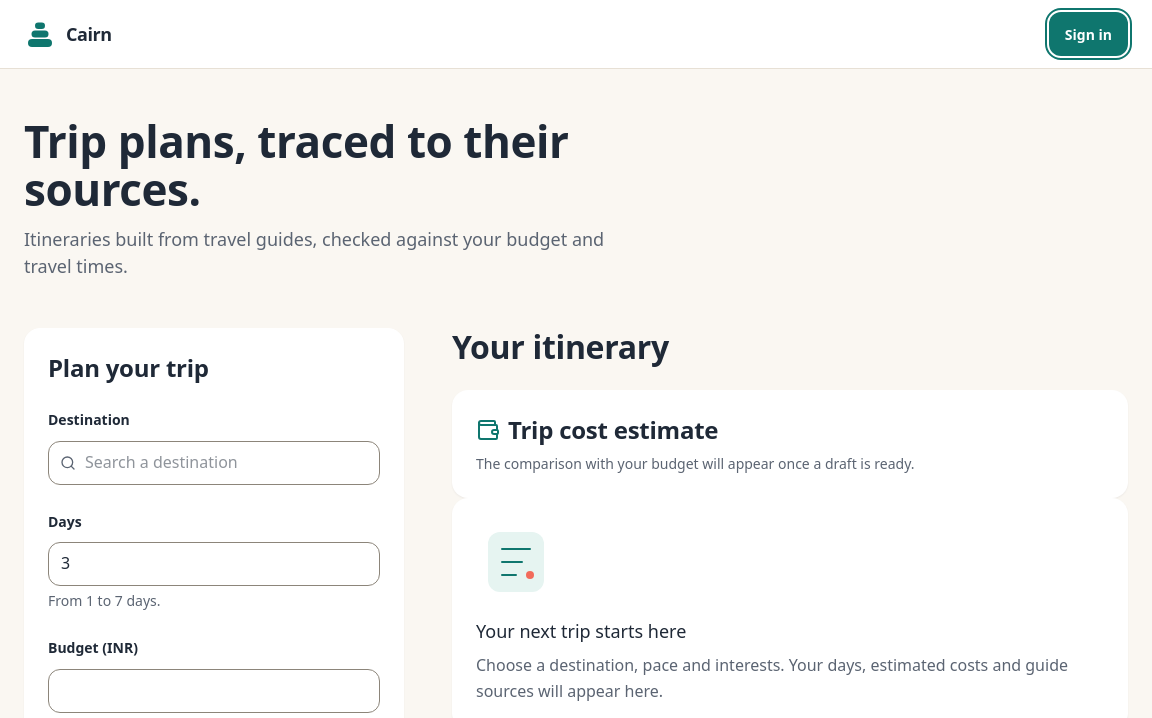
Test: account dialog › traps focus and closes from the keyboard
The width and height of the screenshot is (1152, 718).
expect the dropdown labelled "Destination" is shown: met, box left=48, top=441, right=380, bottom=485
Click the button "Sign in". click: coordinates (1088, 34)
box: left=1049, top=12, right=1128, bottom=56
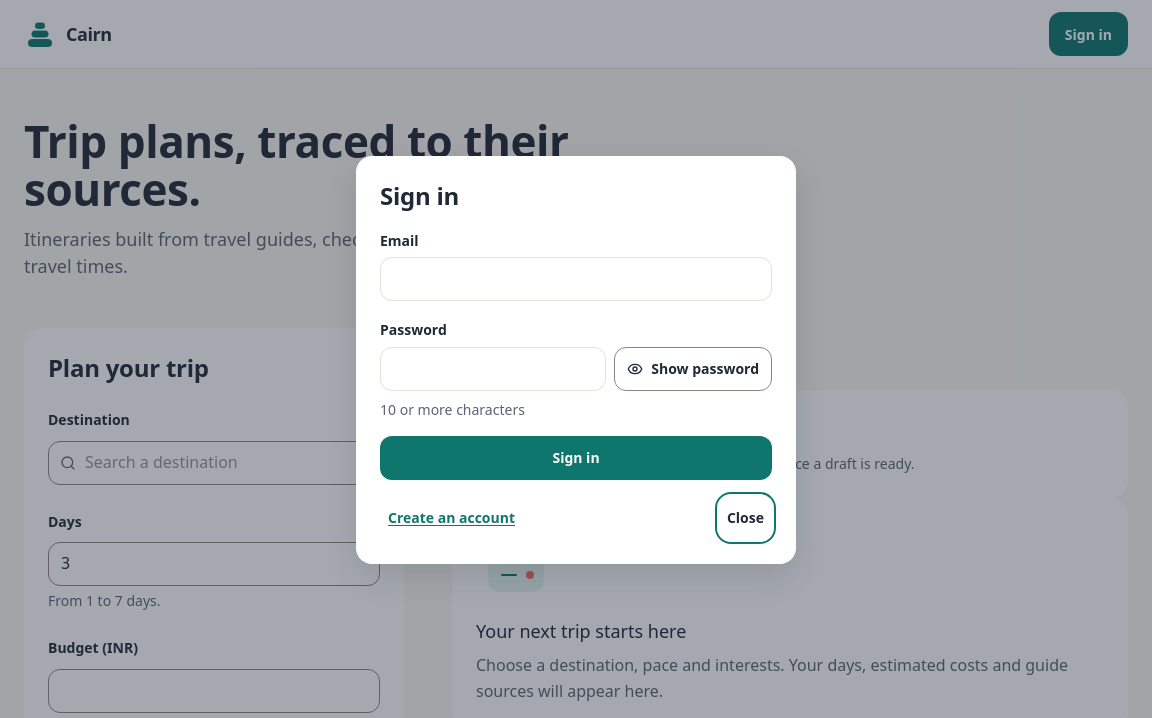
Press Tab in the dialog, box left=356, top=156, right=796, bottom=564
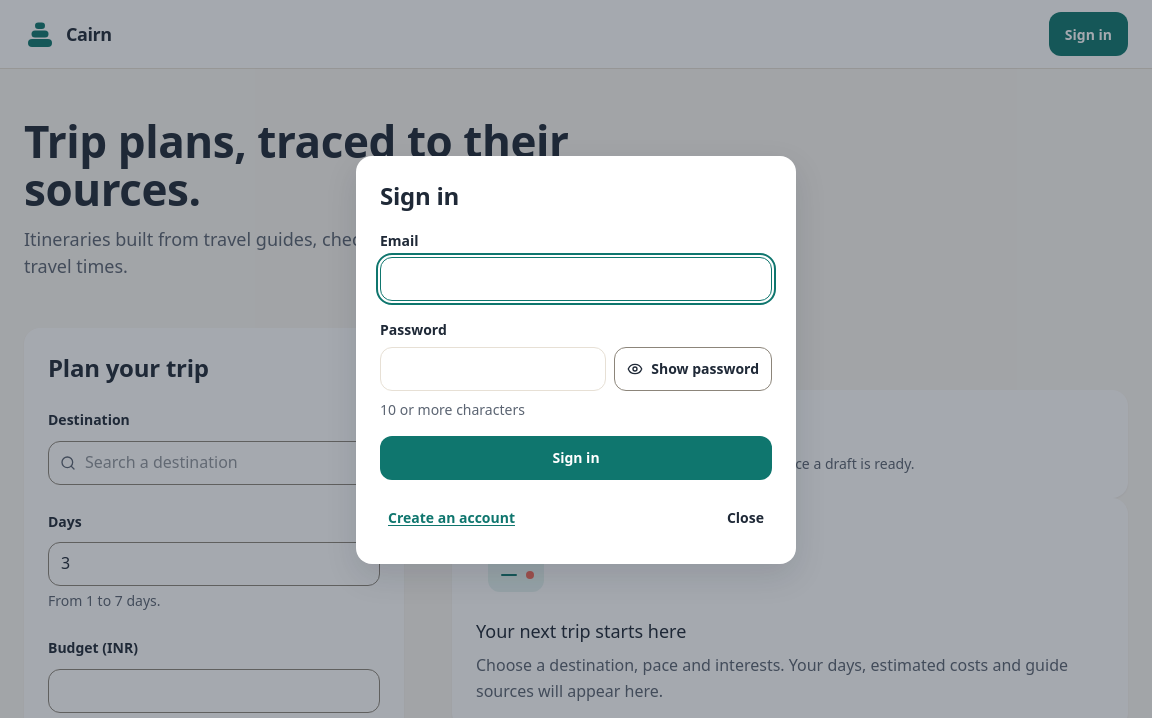
Press Tab in the dialog, box left=356, top=156, right=796, bottom=564
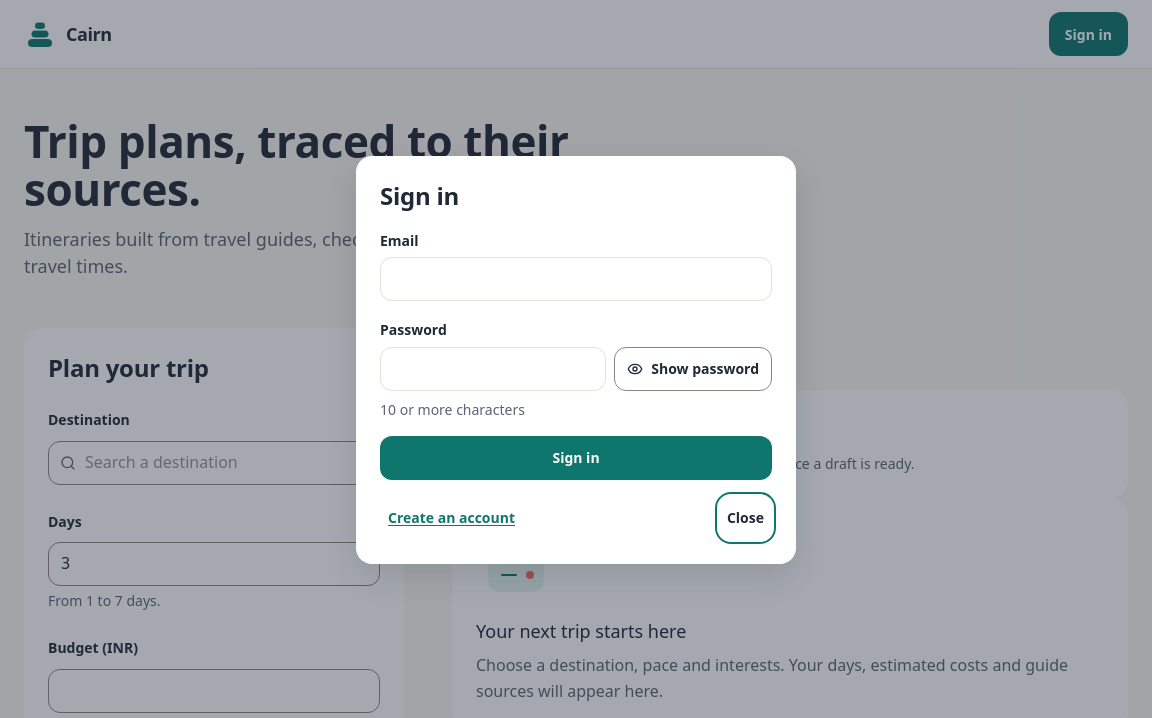
Press Escape in the dialog, box left=356, top=156, right=796, bottom=564
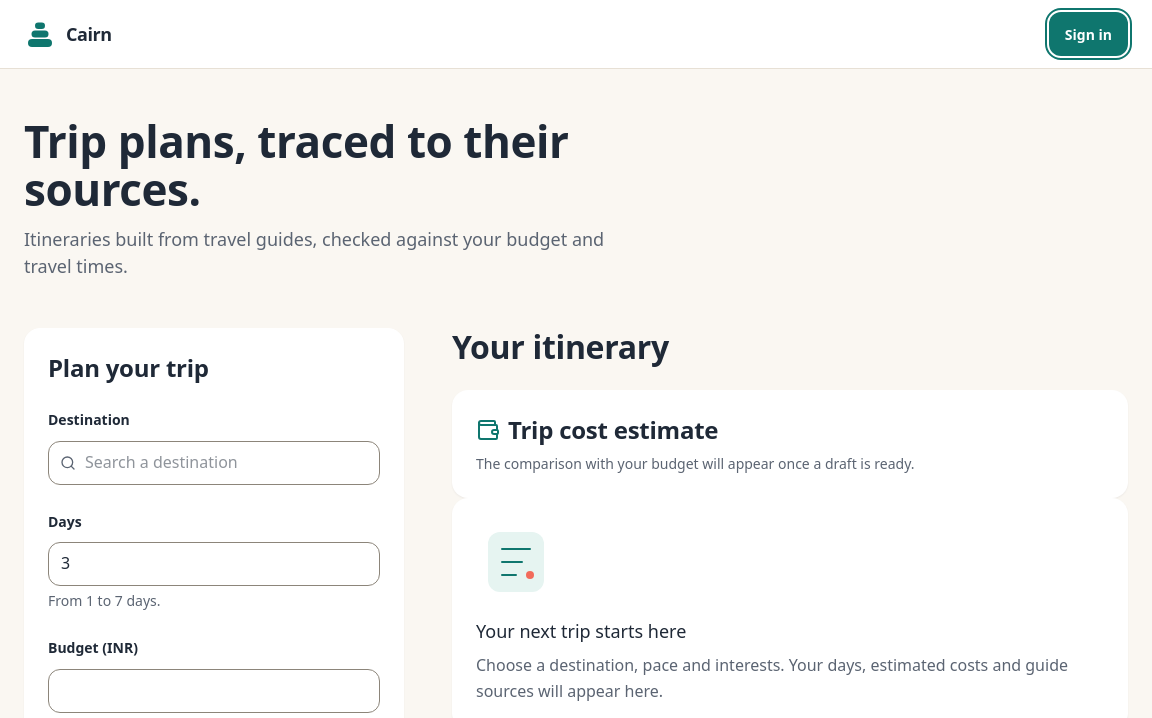
expect the dialog is gone: met
